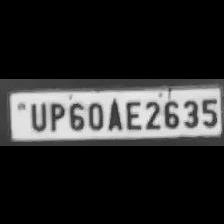0: (84, 97, 104, 129)
2: (142, 96, 162, 128)
3: (180, 96, 200, 128)
5: (198, 93, 218, 126)
6: (65, 98, 85, 130), (160, 96, 180, 128)
A: (104, 97, 122, 129)
E: (122, 96, 142, 128)
P: (46, 97, 66, 130)
U: (26, 98, 48, 130)
